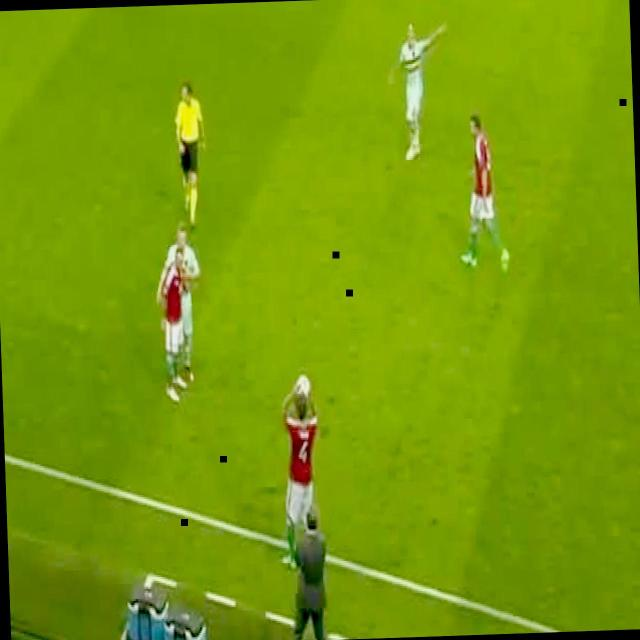ball: (296, 375, 310, 397)
player-white: (387, 17, 450, 162), (456, 115, 510, 278), (277, 381, 322, 571), (154, 224, 204, 384), (158, 250, 195, 404), (174, 83, 208, 229)
